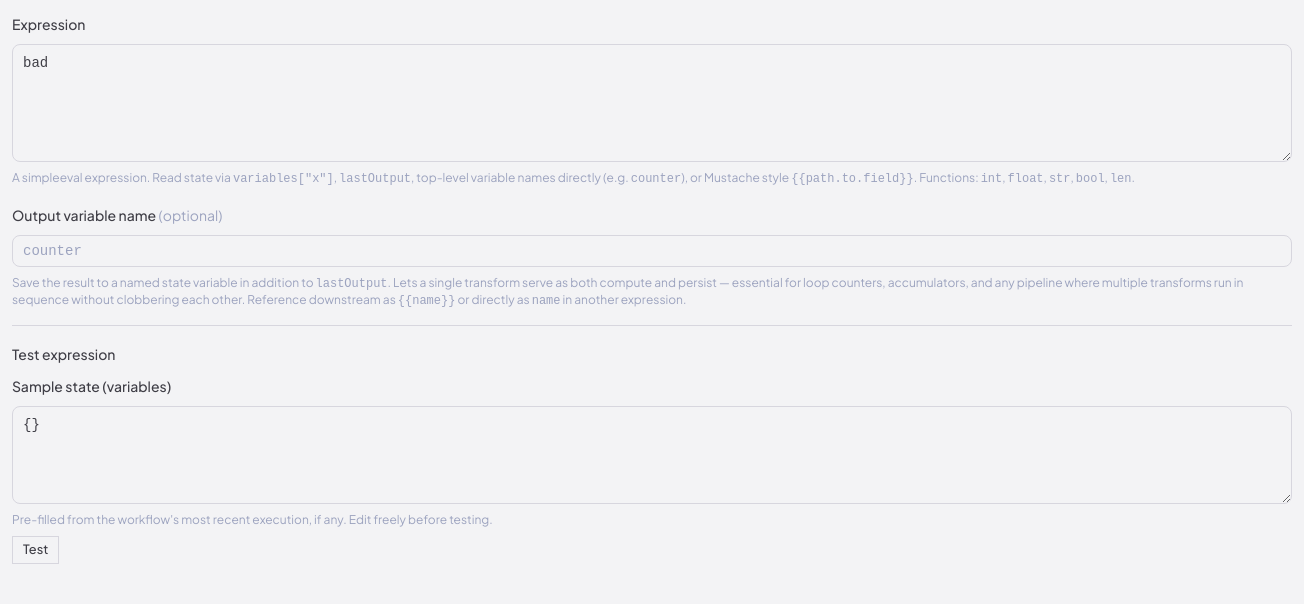
Test: TransformPanel › shows the error message on a failed test
What coordinates should you click on to do the following:
click the button "Test"
I would click on:
 (36, 550)
Its box is 12,536 -> 59,564.
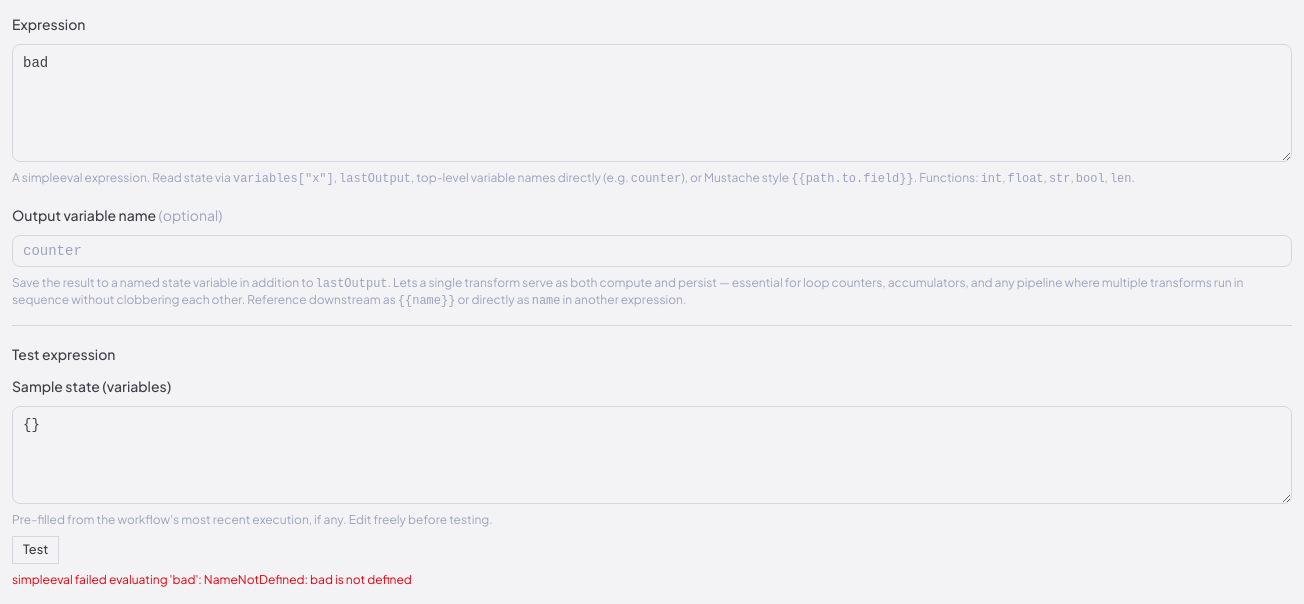
Result: the text "NameNotDefined" is shown at 12,572 -> 412,587
